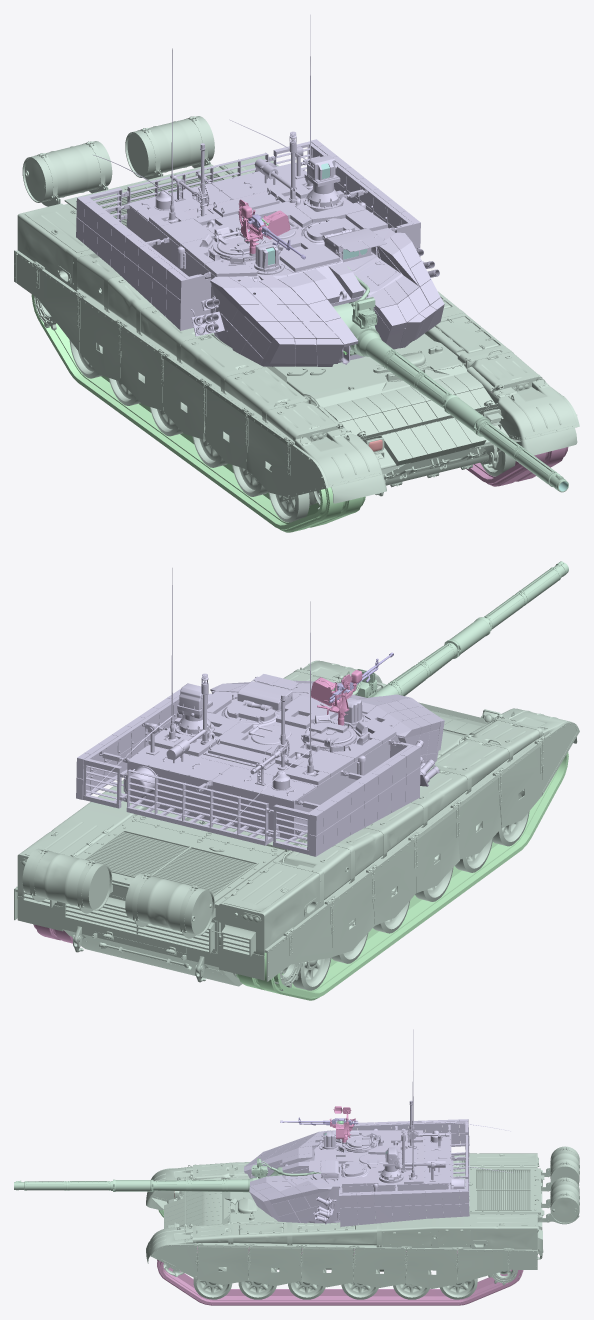
Rendered from ZTZ99A.fbx.
3 renders of one model, top to bottom at view 1: azimuth 30°, elevation 25°; view 2: azimuth 150°, elevation 25°; view 3: azimuth 270°, elevation 25°, orthographic. The views are drawn at different scales.
Parts seen in each view (by area): view 1: x_root.001, smoke_barrels, turret.001, track_r, turret, ex_decor_l_02, ex_decor_r_03, ex_decor_r_02, turret_01.002, turret.002, ex_armor_body_r_07, ex_armor_05 (+46 smaller); view 2: turret, smoke_barrels, x_root, turret_01, ex_decor_r_03, x_root.005, track_r, turret.001, ex_decor_l_03, hatch_05, ex_armor_body_r_07, ex_armor_body_r_04 (+37 smaller); view 3: ex_decor_l_03, track_l, turret.001, smoke_barrels, x_root.005, x_root, ex_armor_body_l_07, ex_armor_body_l_05, ex_armor_body_l_04, ex_armor_body_l_03, ex_armor_03, ex_armor_body_l_06 (+33 smaller).
Part boxes in pixels (x1,y1,x2,y2): x_root.001: (16,250,548,479); smoke_barrels: (22,116,214,206); turret.001: (127,191,404,364); track_r: (31,294,365,532); turret: (127,146,336,227); ex_decor_l_02: (497,384,578,455); ex_decor_r_03: (17,203,98,290); ex_decor_r_02: (299,434,386,503); turret_01.002: (84,141,420,330); turret.002: (177,155,365,268); ex_armor_body_r_07: (14,250,79,351); ex_armor_05: (220,364,310,422); turret: (127,695,317,839); smoke_barrels: (22,848,214,938); x_root: (15,839,293,986); turret_01: (83,726,319,854); ex_decor_r_03: (212,862,323,957); x_root.005: (76,811,334,986); track_r: (236,752,568,1000); turret.001: (148,674,399,840); ex_decor_l_03: (17,780,148,908); hatch_05: (64,894,217,954); ex_armor_body_r_07: (266,900,332,981); ex_armor_body_r_04: (415,803,459,893); ex_decor_l_03: (381,1213,542,1250); track_l: (157,1246,523,1305); turret.001: (251,1132,451,1223); smoke_barrels: (547,1146,579,1224); x_root.005: (452,1168,540,1249); x_root: (489,1168,549,1253); ex_armor_body_l_07: (457,1248,537,1283); ex_armor_body_l_05: (353,1246,406,1287); ex_armor_body_l_04: (301,1246,354,1287); ex_armor_body_l_03: (248,1245,301,1286); ex_armor_03: (292,1222,381,1247); ex_armor_body_l_06: (406,1247,457,1288).
Size of the model in its own units: 14139 by 18692 by 43607.
